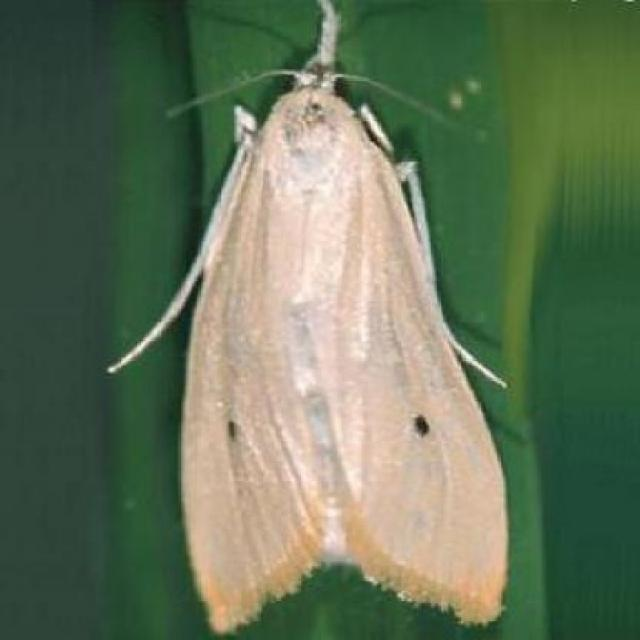stem-borer: (103, 0, 515, 640)
